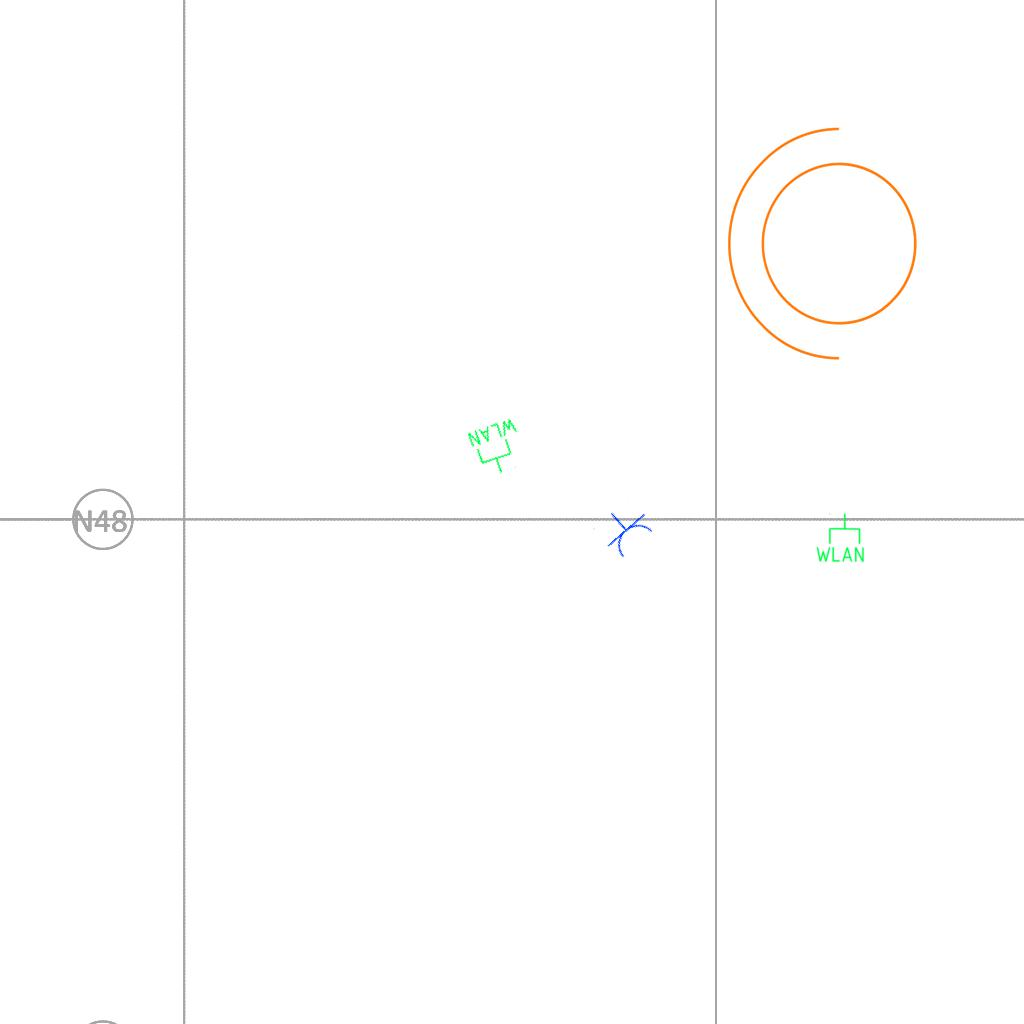Scheinwerfer_fuer_Alarmbeleuchtung: (717, 118, 942, 382)
Schukosteckdose_einfach: (592, 496, 658, 563)
WLAN: (464, 414, 532, 482), (814, 512, 866, 564)
